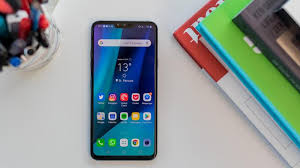lg: (87, 15, 162, 163)
